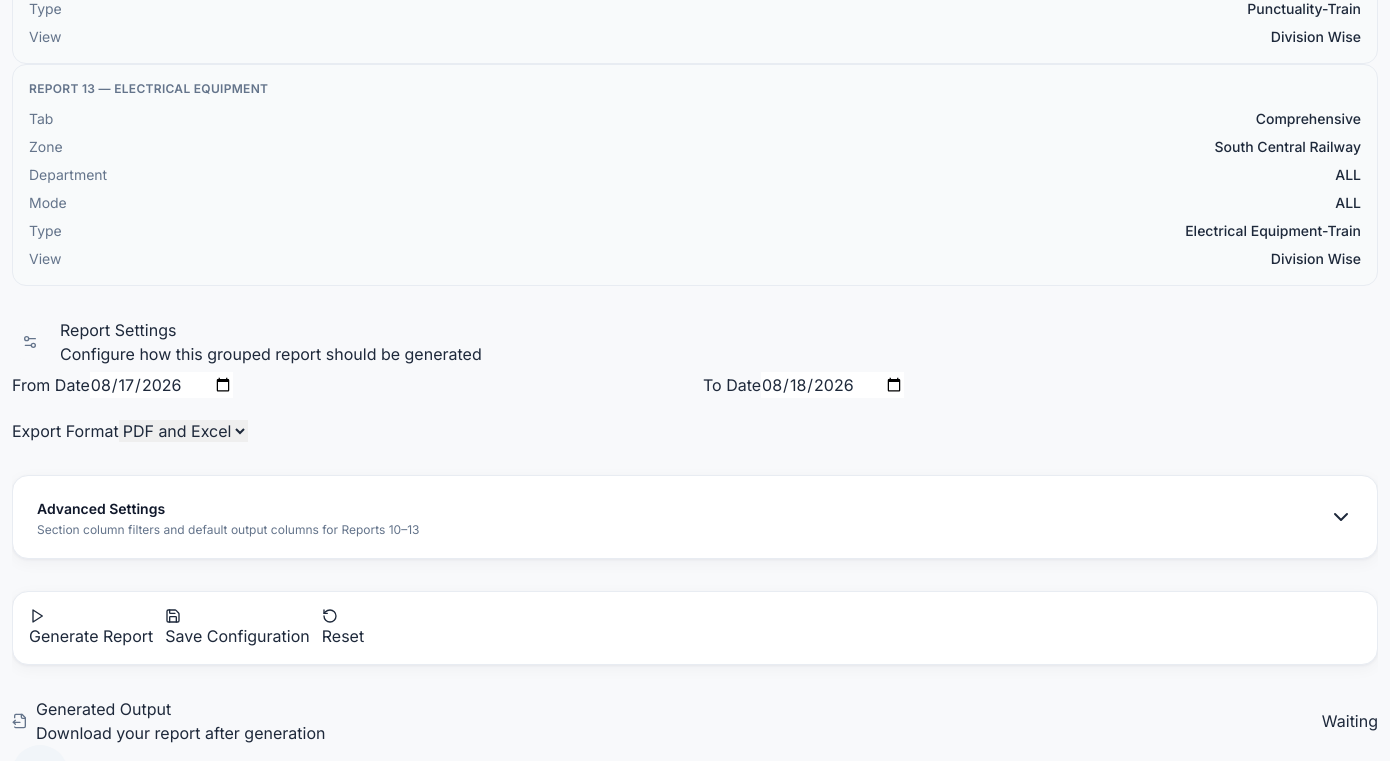
Test case: ComprehensivePage › Date range validation › displays date range error when From Date is after To Date
(page scrolled)
Type "2026-07-30" into the date field labelled "From Date" at (161, 385), box [90,372,233,398]
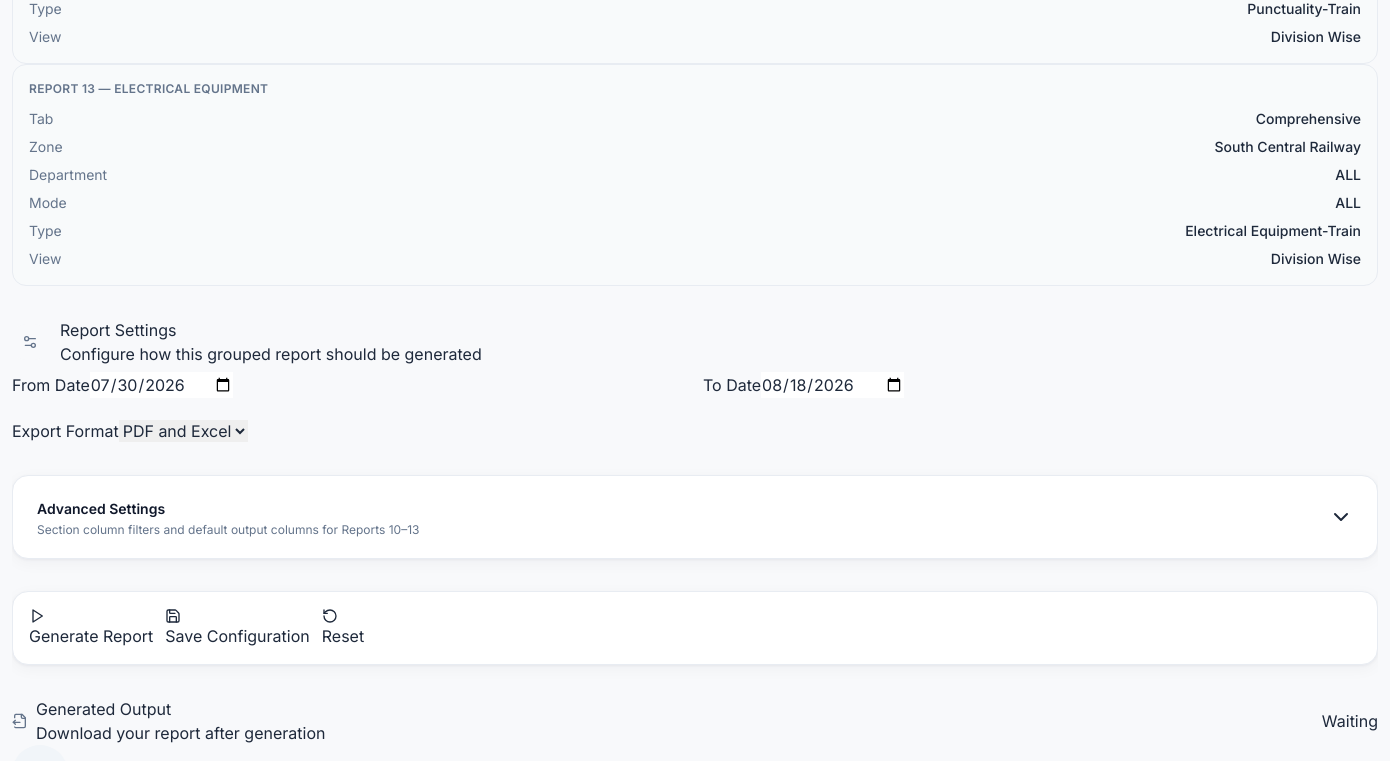
Type "2026-07-20" into the date field labelled "To Date" at (833, 385), box [761,372,904,398]
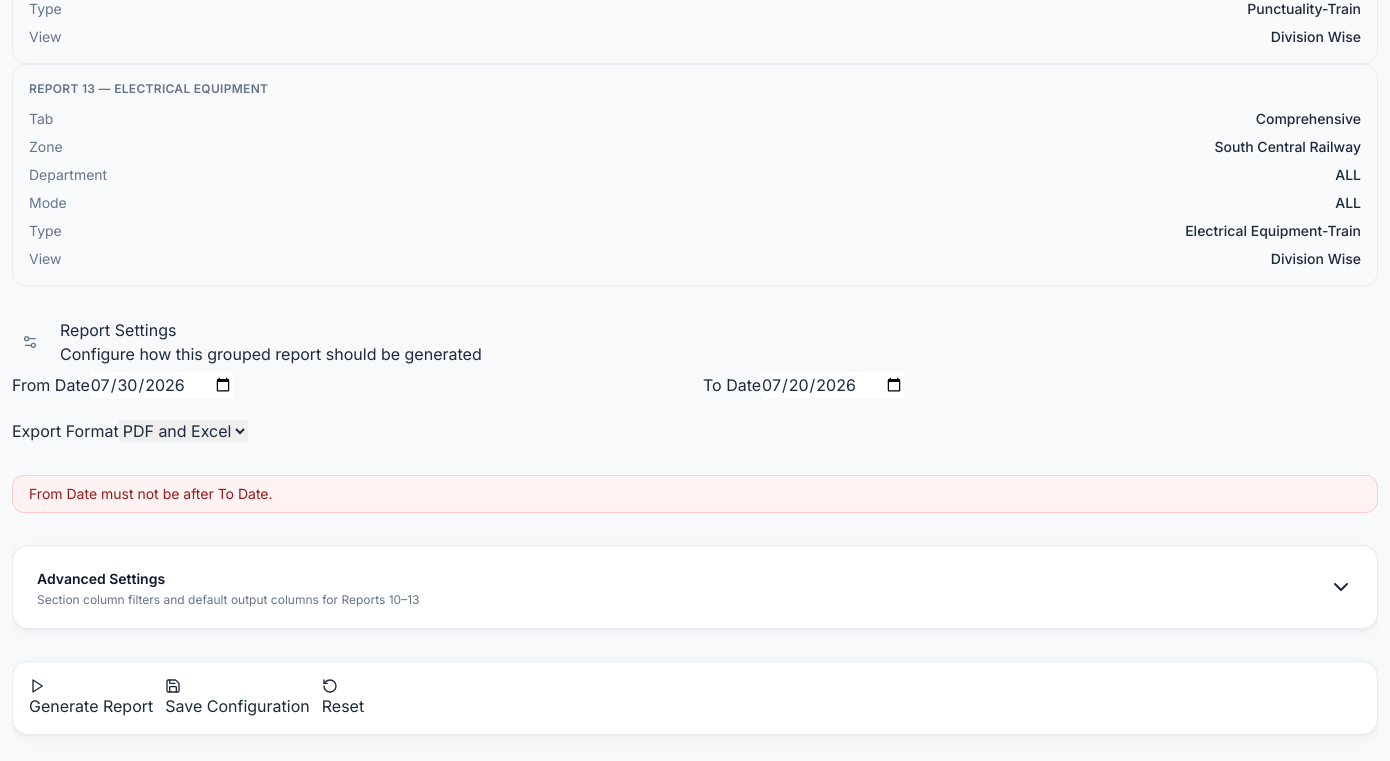
Now the text "From Date must not be after To Date." is shown, box [12,475,1378,513]
